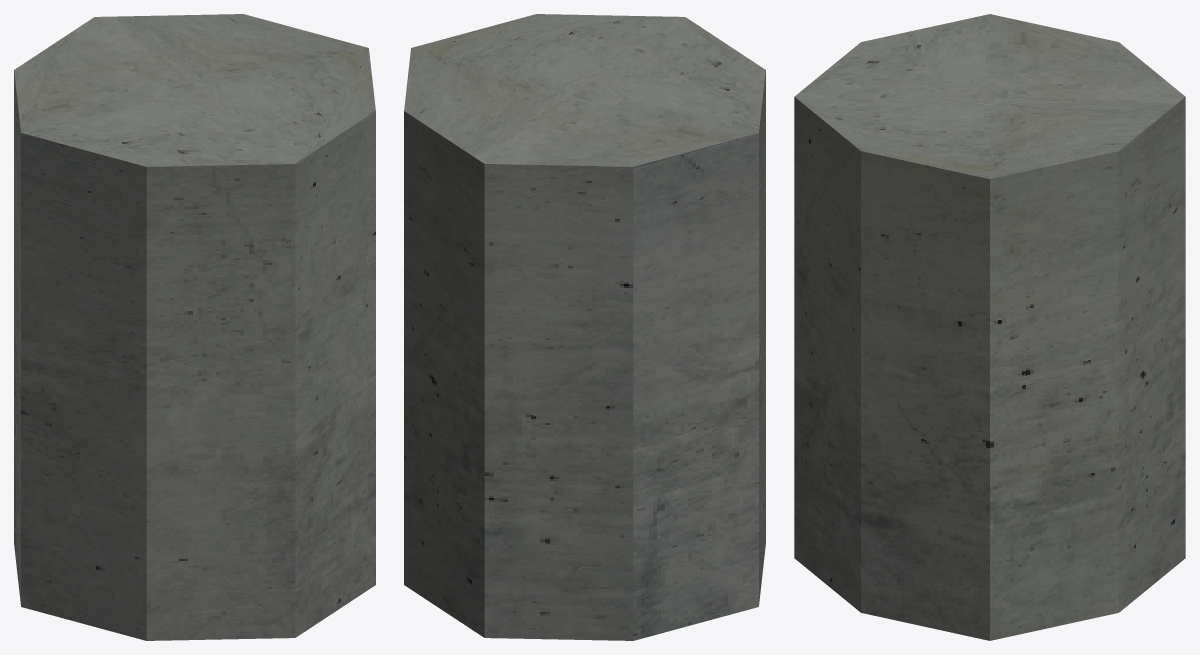
Rendered from barrel.glb.
The picture shows the model from 3 angles, left to right: view 1: azimuth 30°, elevation 25°; view 2: azimuth 150°, elevation 25°; view 3: azimuth 270°, elevation 25°; orthographic projection. The views are drawn at different scales.
Visible parts, largest first — view 1: Cube; view 2: Cube; view 3: Cube.
Boxes of the visible parts, left/top/right/bottom form: Cube: left=14, top=14, right=375, bottom=640; Cube: left=404, top=14, right=765, bottom=640; Cube: left=794, top=14, right=1185, bottom=640.
Size of the model in its own units: 2 by 2.6 by 2.
1 material, 1 textured.
